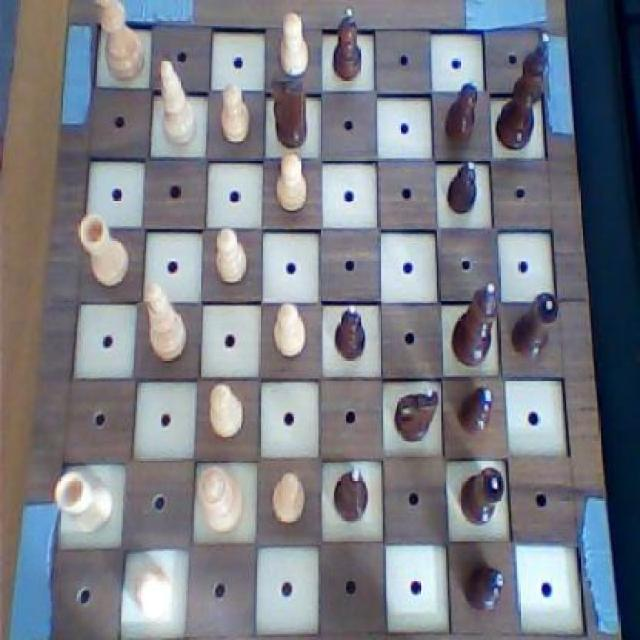bishop: (330, 460, 372, 528)
black-bishop: (490, 28, 558, 153)
black-king: (268, 72, 310, 154), (391, 382, 442, 446)
black-knight: (440, 75, 482, 147), (454, 380, 499, 442), (329, 6, 365, 83), (463, 558, 509, 618), (443, 155, 485, 217), (328, 302, 370, 364)
black-pawn: (448, 274, 500, 371)
black-queen: (508, 286, 562, 366), (454, 460, 508, 528)
black-rook: (151, 54, 203, 148), (142, 277, 190, 365)
white-bishop: (89, 0, 146, 86)
white-knight: (202, 380, 246, 443), (131, 562, 175, 623), (266, 469, 309, 526), (271, 300, 310, 361), (219, 80, 253, 149), (277, 9, 311, 78), (214, 225, 250, 288), (274, 152, 310, 213)
white-pawn: (195, 464, 244, 538)
white-queen: (51, 466, 117, 537), (75, 208, 133, 288)
